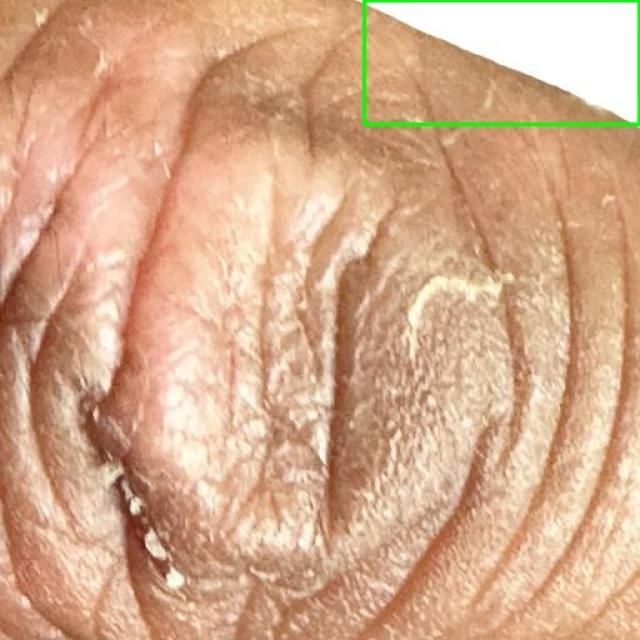Contact Dermatitis: (364, 0, 639, 124)
